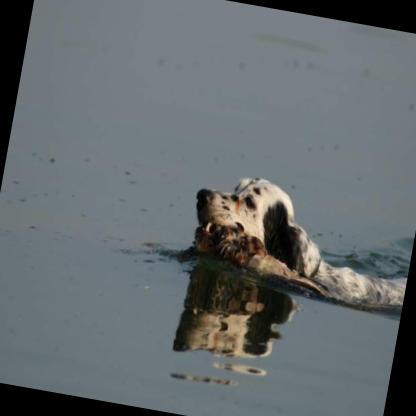English_setter: (175, 159, 416, 330)
